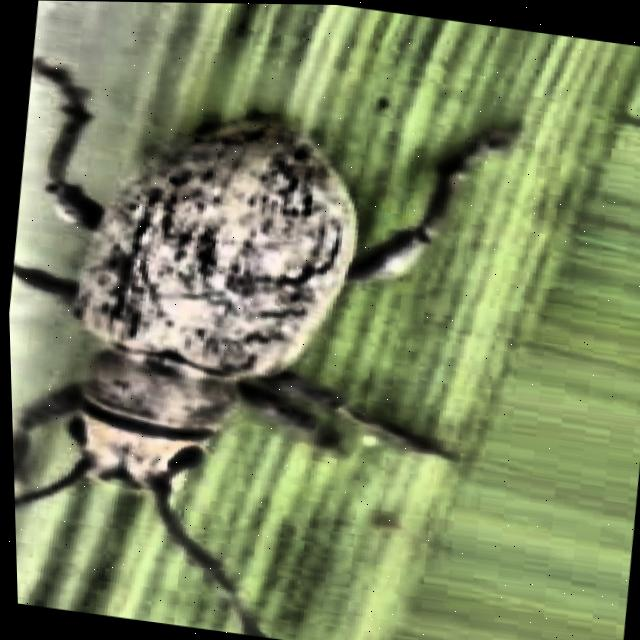Stink bug: (1, 44, 551, 612)
